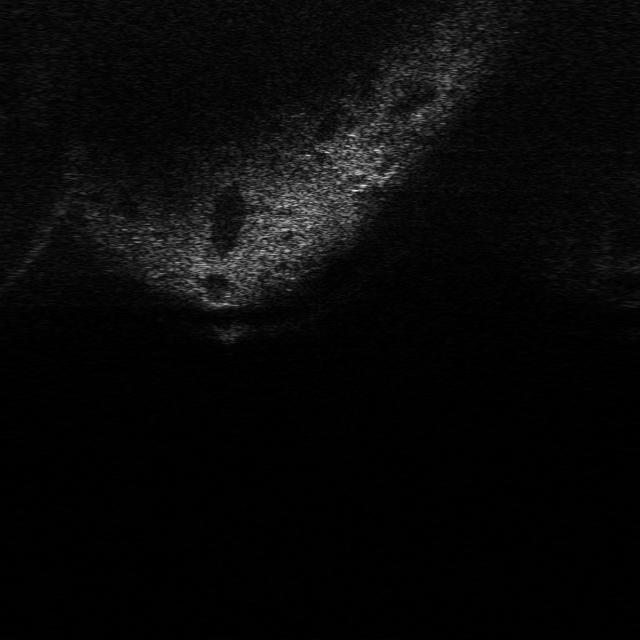cylinder: (208, 318, 251, 347)
